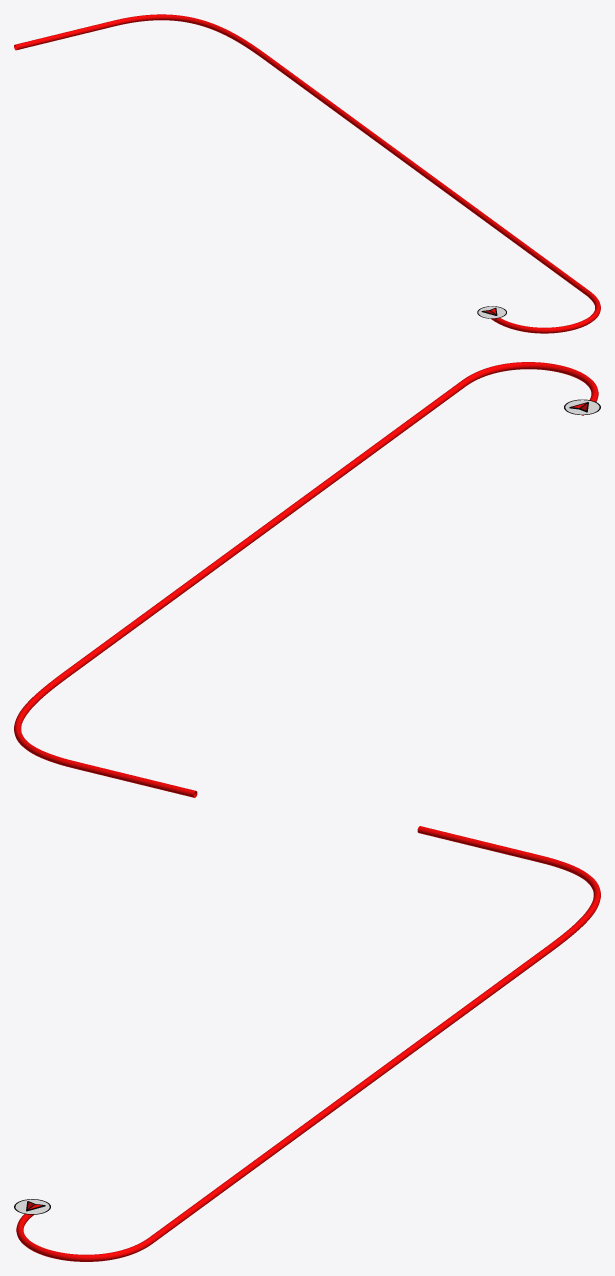
Rendered from route_53215d09-d2d3-443a-88e8-2c6aa448671a_en_target.glb.
The picture shows the model from 3 angles, top to bottom: view 1: azimuth 30°, elevation 25°; view 2: azimuth 150°, elevation 25°; view 3: azimuth 330°, elevation 25°; orthographic projection. The views are drawn at different scales.
Visible parts, largest first — view 1: Herzkatheter.001; view 2: Herzkatheter.001; view 3: Herzkatheter.001.
Part boxes in pixels (<box>): Herzkatheter.001: <box>14,14,600,333</box>; Herzkatheter.001: <box>14,362,598,797</box>; Herzkatheter.001: <box>16,826,600,1261</box>.
Bounding box in the file's own units: 2.83 × 0.1086 × 11.67.
